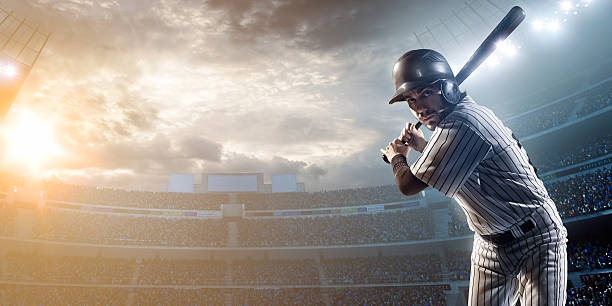bita: (454, 8, 527, 84)
